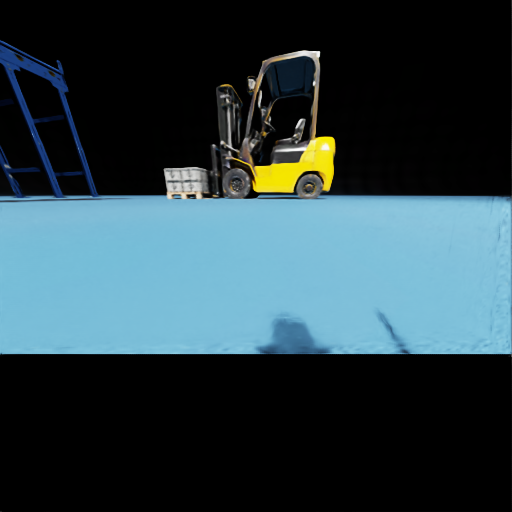transportation_area: (182, 180, 213, 191)
